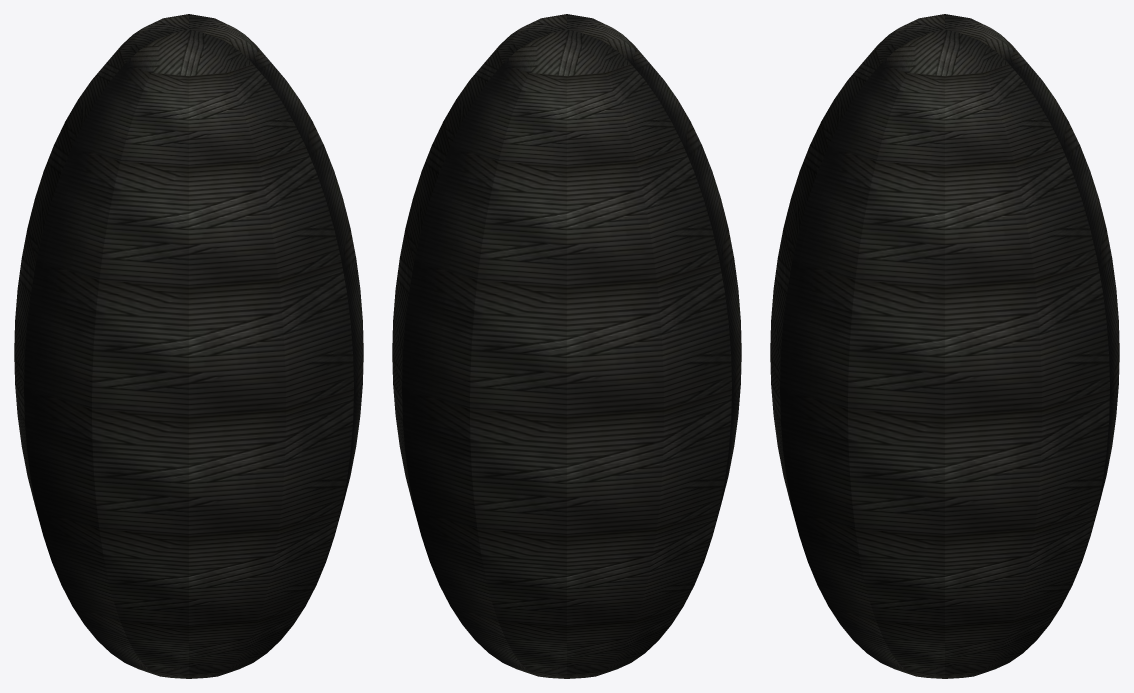
File: Missile.fbx
The picture shows the model from 3 angles, left to right: view 1: azimuth 30°, elevation 25°; view 2: azimuth 150°, elevation 25°; view 3: azimuth 270°, elevation 25°; orthographic projection.
Visible parts, largest first — view 1: Sphere; view 2: Sphere; view 3: Sphere.
Part boxes in pixels (x1,y1,x2,y2): Sphere: (14,14,363,678); Sphere: (392,14,741,678); Sphere: (770,14,1119,678).
Bounding box in the file's own units: 0.961 × 1.91 × 0.9511.
Materials: 1 (1 with a texture image).
